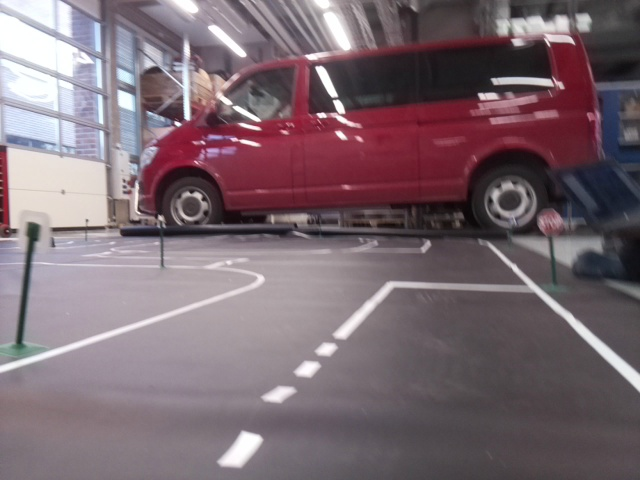Stop: (537, 206, 563, 235)
